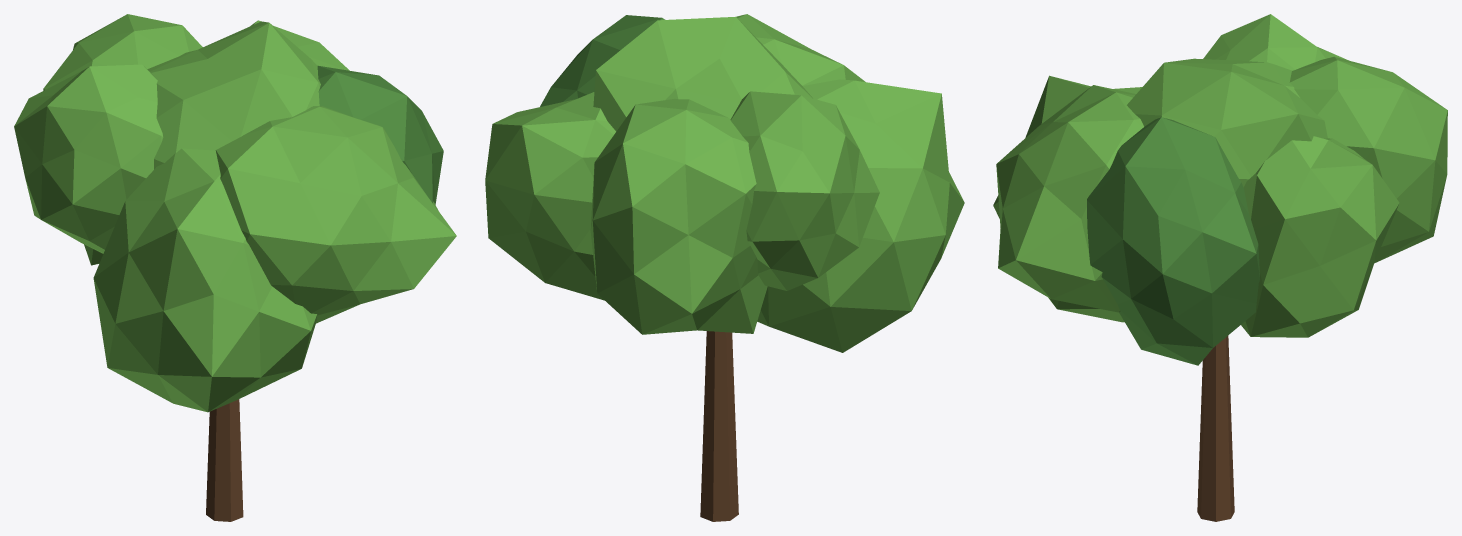
The model's file is maple-green.glb.
The picture shows the model from 3 angles, left to right: view 1: azimuth 30°, elevation 25°; view 2: azimuth 150°, elevation 25°; view 3: azimuth 270°, elevation 25°; orthographic projection. The views are drawn at different scales.
Parts seen in each view (by area): view 1: tree; view 2: tree; view 3: tree.
Boxes of the visible parts, left/top/right/bottom form: tree: left=14, top=14, right=456, bottom=521; tree: left=485, top=14, right=964, bottom=521; tree: left=993, top=14, right=1447, bottom=521.
Bounding box in the file's own units: 7.63 × 9.67 × 8.53.
